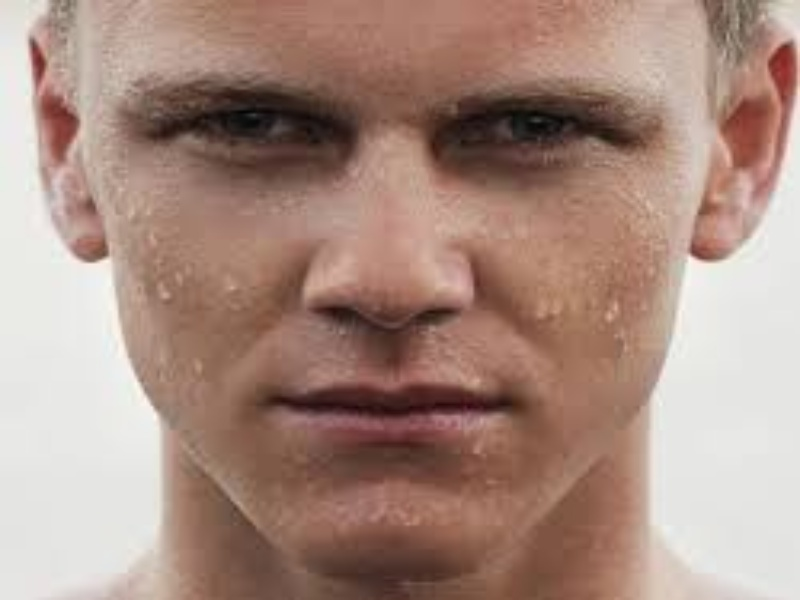face: (103, 5, 678, 502)
